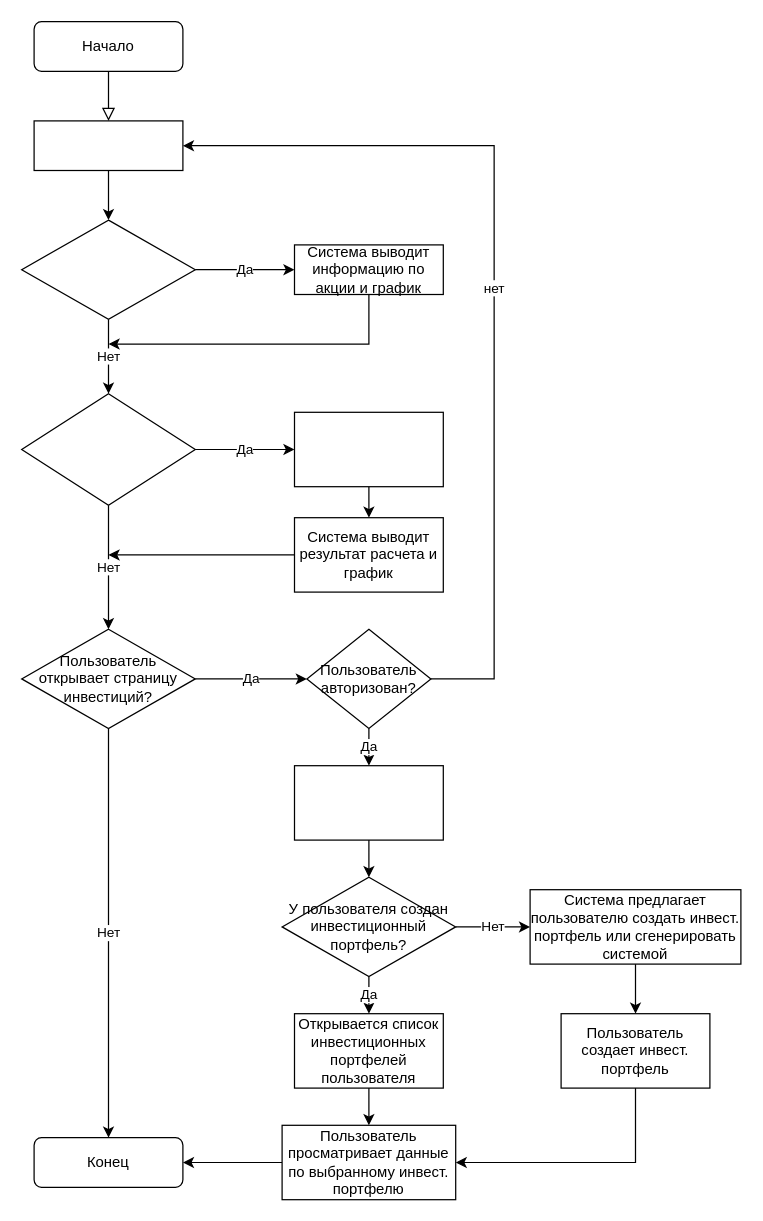
Some shapes in this 763 by 1221 pixel diagram are drawn without their labels. Here are the shapes that lost their labels. From the top down, the centre of each, then its label:
(x=108, y=145): Пользователь открывает главную страницу
(x=107, y=269): Пользователь открывает страницу акции?
(x=107, y=448): Пользователь открывает страницу калькуляторов?
(x=368, y=449): Пользователь вводит начальные данные для расчета
(x=368, y=802): Открывается страница инвестиций
